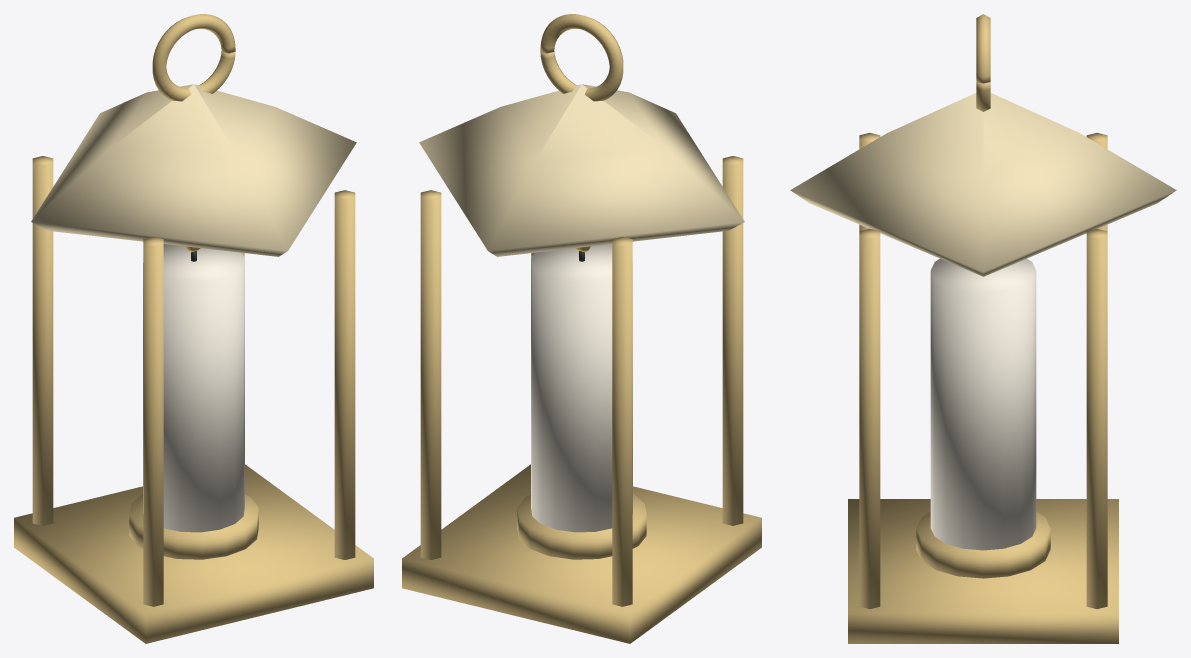
File: heritage-lantern.glb
3 views of the same model, side by side, from view 1: azimuth 30°, elevation 25°; view 2: azimuth 150°, elevation 25°; view 3: azimuth 270°, elevation 25° (orthographic). The views are drawn at different scales.
Visible parts, largest first — view 1: roof-1, base-0, posts-2, wax-3, handle-6; view 2: roof-1, base-0, posts-2, wax-3, handle-6; view 3: roof-1, base-0, wax-3, posts-2, handle-6.
Part boxes in pixels (bbox=[...]): roof-1: bbox=[31, 84, 356, 256]; base-0: bbox=[14, 464, 373, 643]; posts-2: bbox=[32, 156, 355, 606]; wax-3: bbox=[143, 244, 244, 532]; handle-6: bbox=[152, 14, 235, 101]; roof-1: bbox=[419, 84, 744, 256]; base-0: bbox=[402, 464, 761, 643]; posts-2: bbox=[420, 156, 743, 606]; wax-3: bbox=[531, 244, 632, 532]; handle-6: bbox=[540, 14, 623, 101]; roof-1: bbox=[790, 93, 1176, 276]; base-0: bbox=[848, 499, 1118, 643]; wax-3: bbox=[930, 258, 1036, 550]; posts-2: bbox=[859, 133, 1107, 608]; handle-6: bbox=[976, 14, 990, 111].
Bounding box in the file's own units: 0.8 × 1.3 × 0.8.
